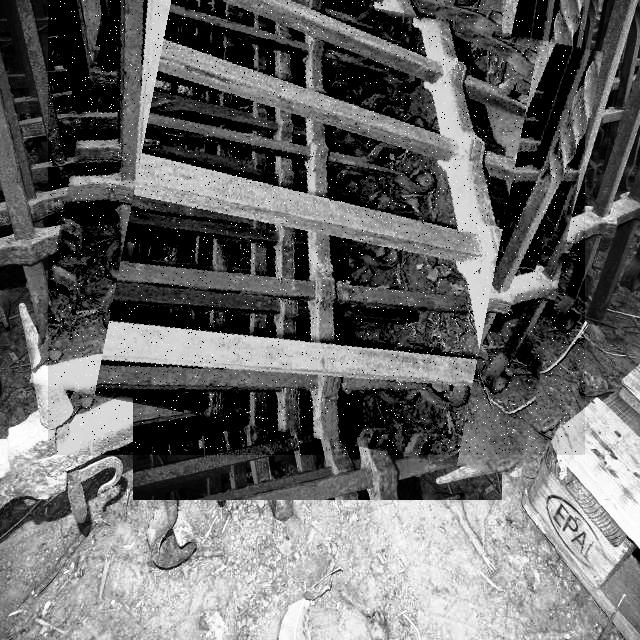fences: (48, 0, 585, 455)
